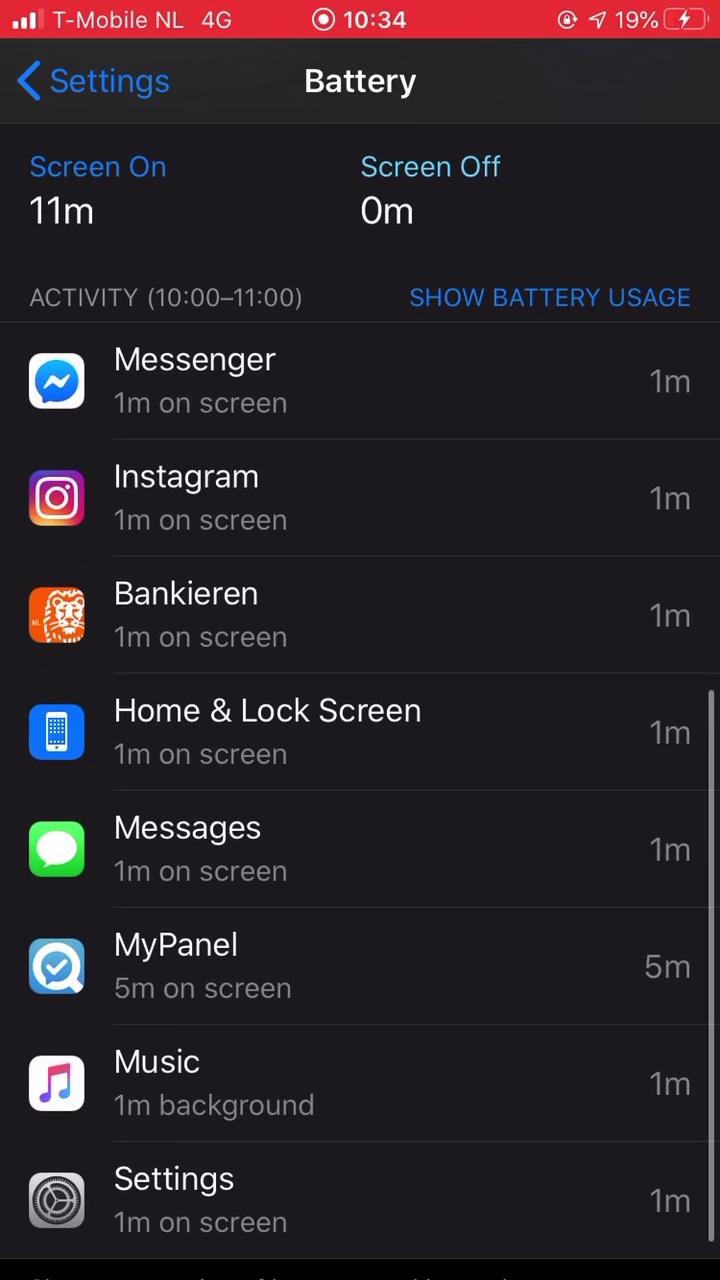activity: (13, 275, 313, 318)
app: (13, 338, 699, 428), (17, 452, 703, 542), (11, 572, 697, 662), (19, 686, 705, 776), (15, 800, 701, 890), (7, 923, 693, 1013), (9, 1035, 695, 1125), (13, 1156, 699, 1246)
